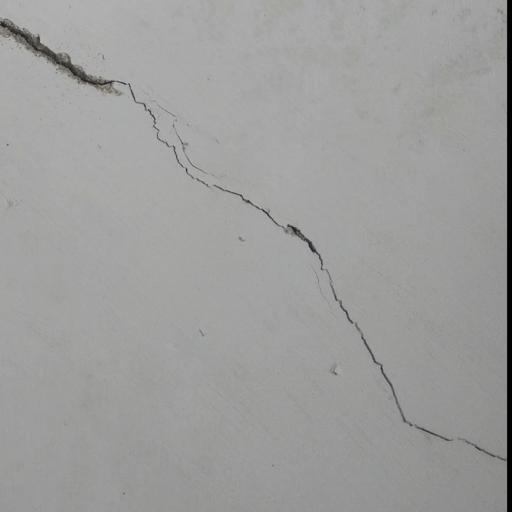major_crack: (0, 7, 502, 470)
